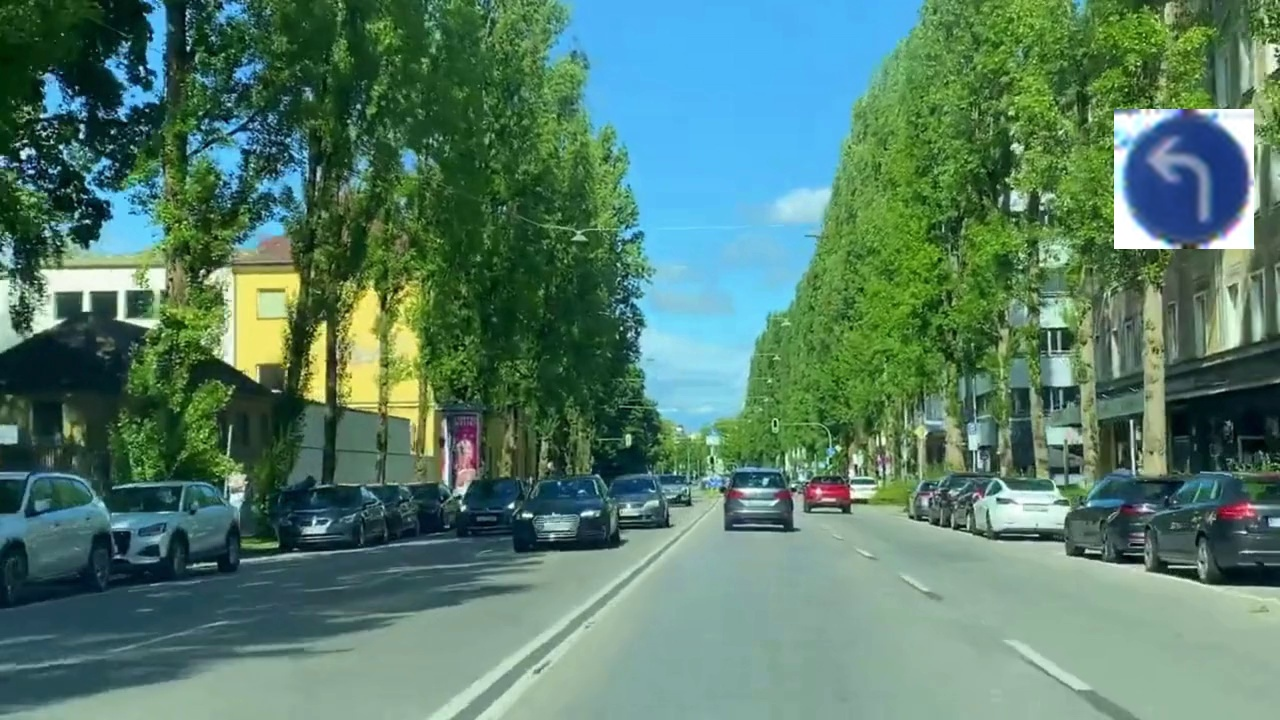Turn left: (1114, 109, 1254, 249)
